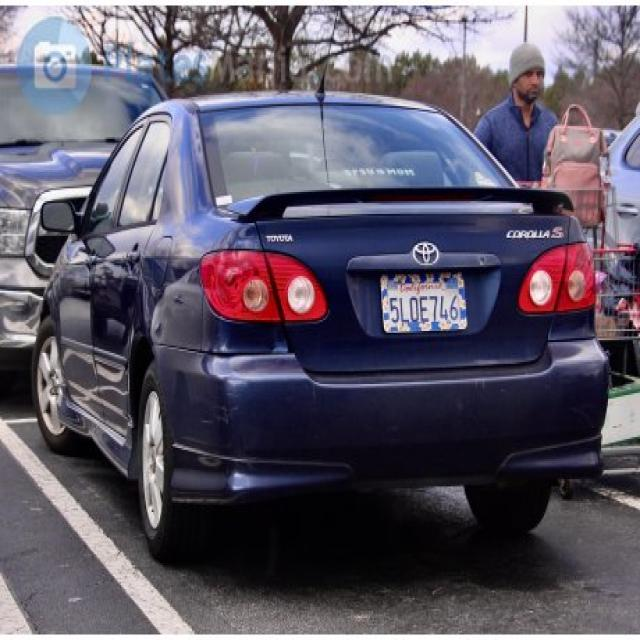license: (372, 265, 482, 348)
